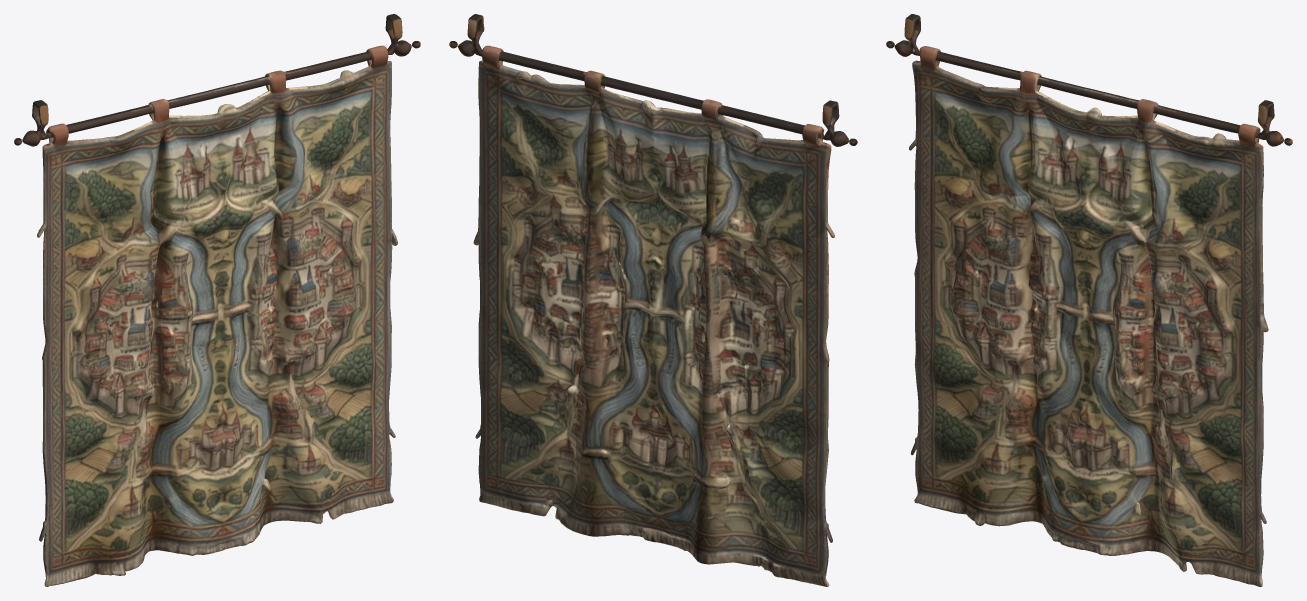
The model's file is obj_chamber_tapestry.glb.
3 views of the same model, side by side, from view 1: azimuth 30°, elevation 25°; view 2: azimuth 150°, elevation 25°; view 3: azimuth 330°, elevation 25° (orthographic).
Parts seen in each view (by area): view 1: geometry_0; view 2: geometry_0; view 3: geometry_0.
Part boxes in pixels (x1,y1,x2,y2): geometry_0: (14, 14, 420, 586); geometry_0: (449, 14, 857, 586); geometry_0: (886, 14, 1292, 586).
Size of the model in its own units: 1.57 by 1.8 by 0.1167.
Materials: 1 (1 with a texture image).
